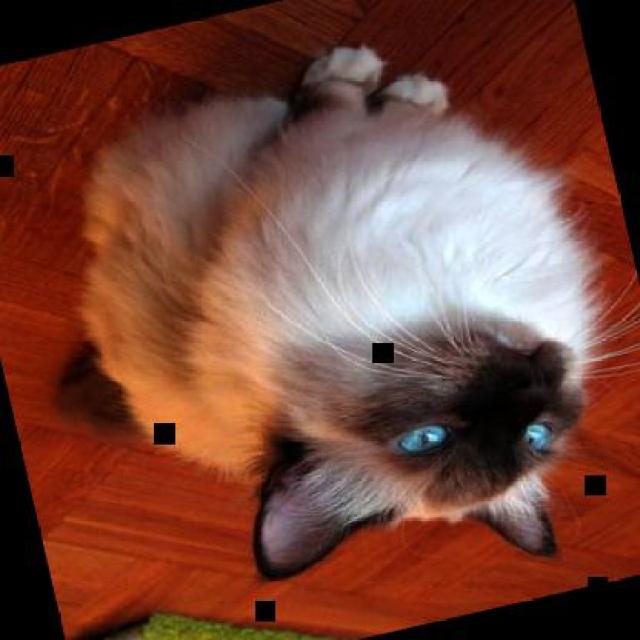cat: (4, 4, 638, 638)
